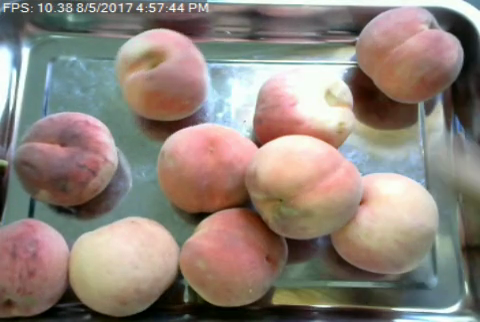Peach: (244, 133, 363, 237), (331, 172, 438, 274), (351, 7, 465, 102), (179, 206, 287, 306), (68, 217, 175, 315), (13, 110, 119, 207), (113, 25, 209, 120), (158, 122, 255, 214), (254, 67, 357, 146), (0, 220, 69, 315)
